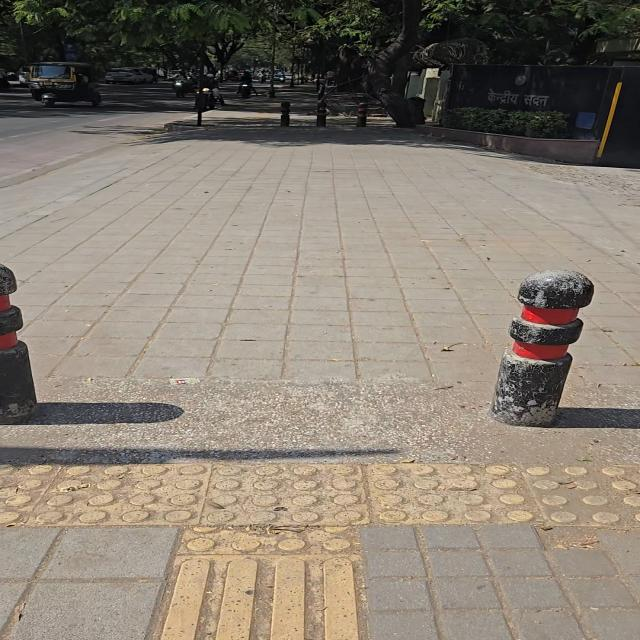obstacle: (491, 271, 593, 426), (0, 265, 36, 424), (316, 100, 327, 127), (357, 102, 367, 127), (280, 102, 290, 126)
